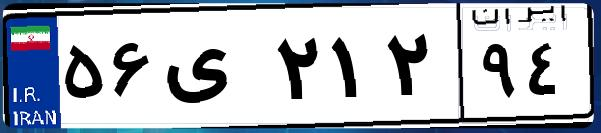1: (330, 28, 385, 110)
2: (270, 28, 330, 110), (385, 28, 445, 110)
4: (525, 38, 570, 115)
5: (57, 26, 110, 100)
6: (110, 28, 158, 98)
9: (475, 38, 525, 113)
ی: (158, 20, 270, 120)
